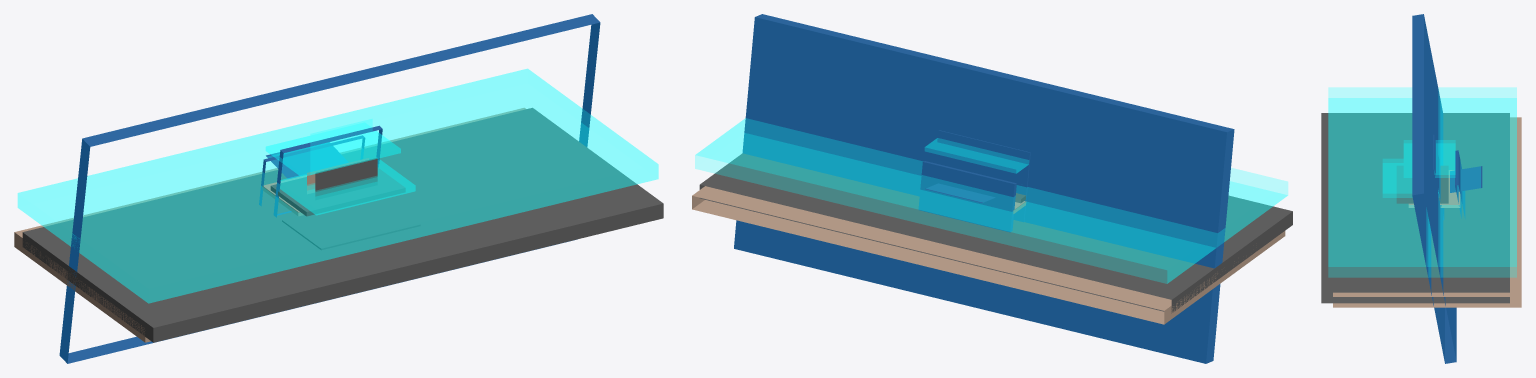
Rendered from fullstack_workspace.gltf.
3 renders of one model, left to right at view 1: azimuth 30°, elevation 25°; view 2: azimuth 150°, elevation 25°; view 3: azimuth 270°, elevation 25°, orthographic. The views are drawn at different scales.
Visible parts, largest first — view 1: laptop_base_node, holo_node, laptop_screen_node, desk_node; view 2: laptop_screen_node, holo_node, laptop_base_node, desk_node; view 3: holo_node, laptop_base_node, laptop_screen_node, desk_node.
Boxes of the visible parts, x1,y1,x2,y2 form: laptop_base_node: (22,108,663,342); holo_node: (18,69,658,303); laptop_screen_node: (59,14,600,363); desk_node: (14,108,525,342); laptop_screen_node: (734,14,1234,363); holo_node: (695,118,1287,283); laptop_base_node: (699,153,1292,313); desk_node: (692,186,1285,324); holo_node: (1328,87,1516,277); laptop_base_node: (1321,113,1509,303); laptop_screen_node: (1412,14,1482,363); desk_node: (1333,117,1521,307).
Size of the model in its own units: 1.8 by 0.7965 by 0.85.
